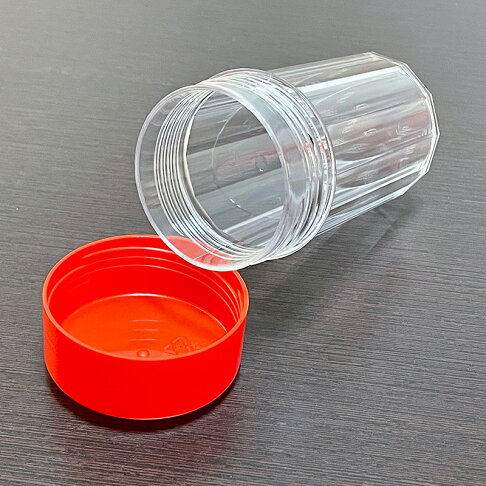medicinejar: (45, 50, 445, 419)
